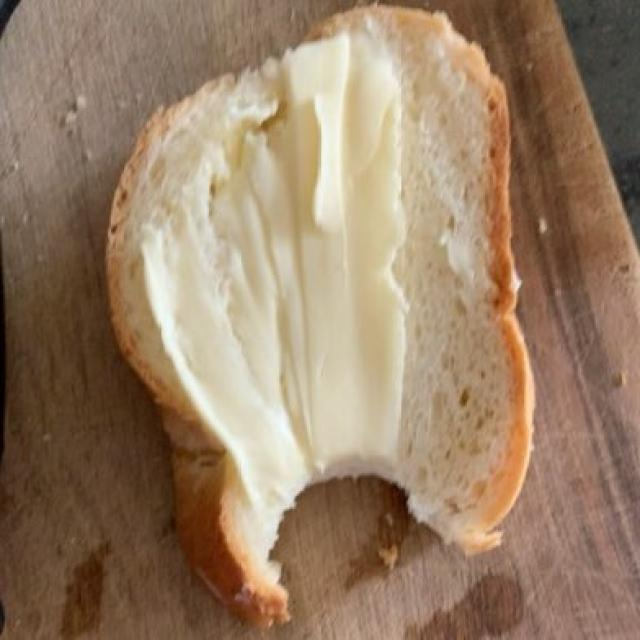bread: (100, 2, 527, 616)
butter: (153, 22, 399, 536)
